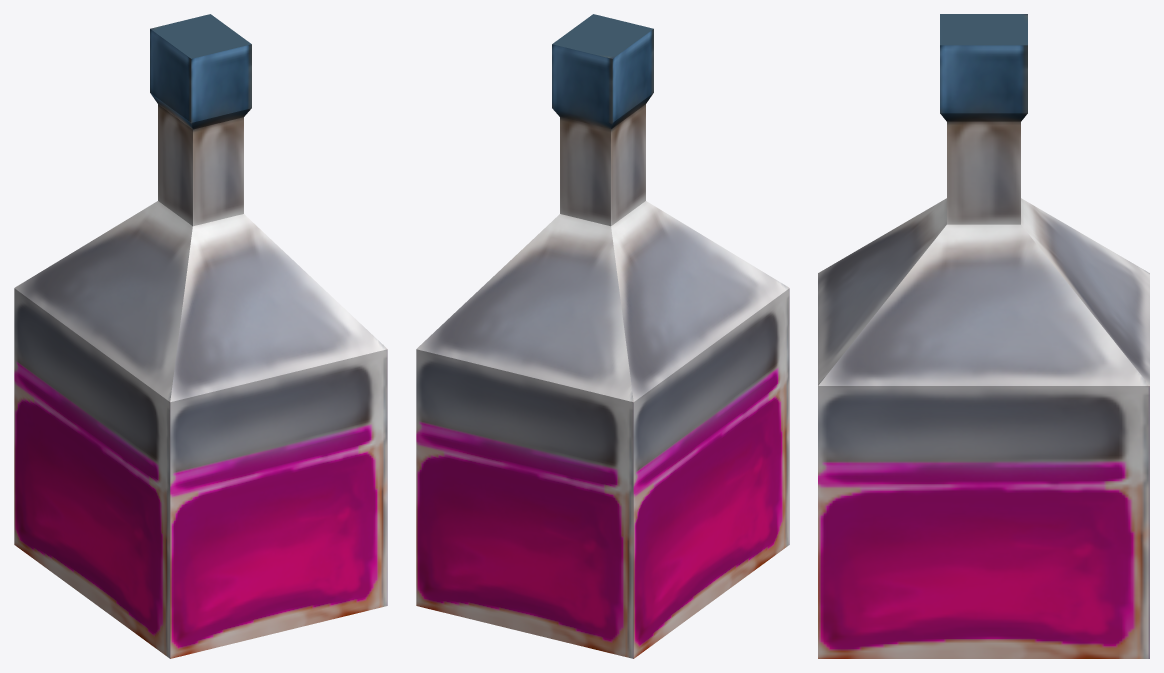
Rendered from JiuPing03.FBX.
The picture shows the model from 3 angles, left to right: view 1: azimuth 30°, elevation 25°; view 2: azimuth 150°, elevation 25°; view 3: azimuth 270°, elevation 25°; orthographic projection. The views are drawn at different scales.
Parts seen in each view (by area): view 1: jiuping03; view 2: jiuping03; view 3: jiuping03.
Part boxes in pixels (x1=…): jiuping03: x1=14, y1=14, x2=387, y2=658; jiuping03: x1=416, y1=14, x2=789, y2=658; jiuping03: x1=818, y1=14, x2=1149, y2=658.
Bounding box in the file's own units: 13.62 × 32.23 × 16.92.
